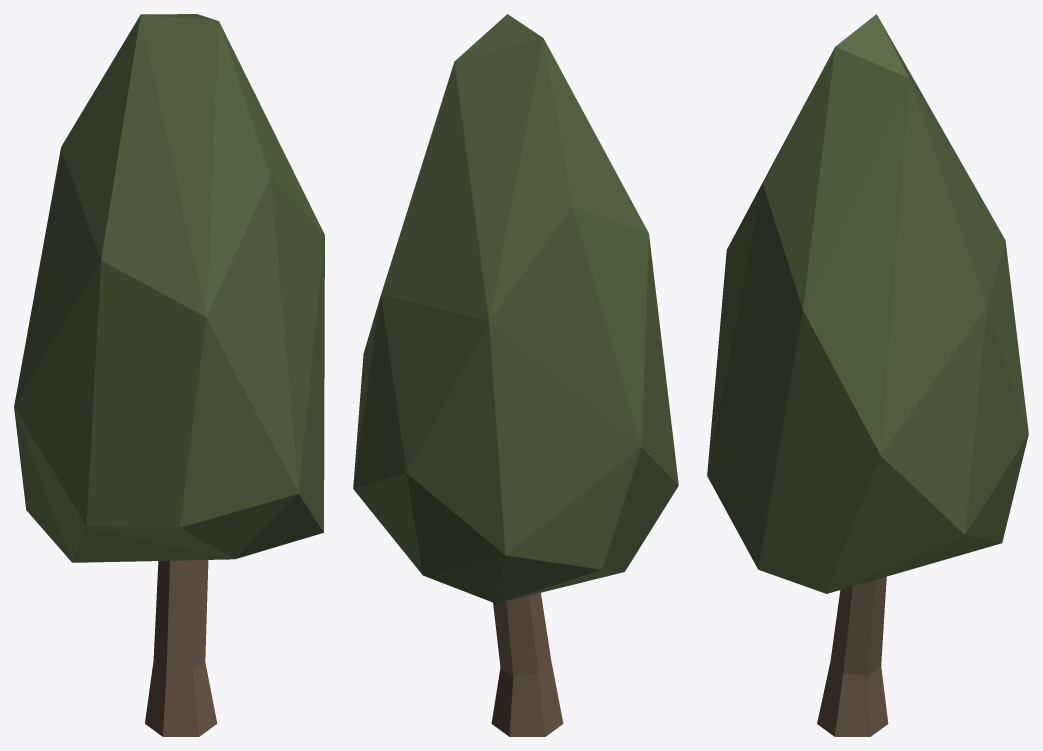
Rendered from SM_Envr_Nature_Tree_01.fbx.
3 views of the same model, side by side, from view 1: azimuth 30°, elevation 25°; view 2: azimuth 150°, elevation 25°; view 3: azimuth 270°, elevation 25° (orthographic).
Parts seen in each view (by area): view 1: SM_Envr_Nature_Tree_01; view 2: SM_Envr_Nature_Tree_01; view 3: SM_Envr_Nature_Tree_01.
Boxes of the visible parts, x1,y1,x2,y2 form: SM_Envr_Nature_Tree_01: [14, 14, 324, 736]; SM_Envr_Nature_Tree_01: [353, 14, 678, 736]; SM_Envr_Nature_Tree_01: [707, 14, 1028, 736].
Size of the model in its own units: 193 by 446 by 187.
